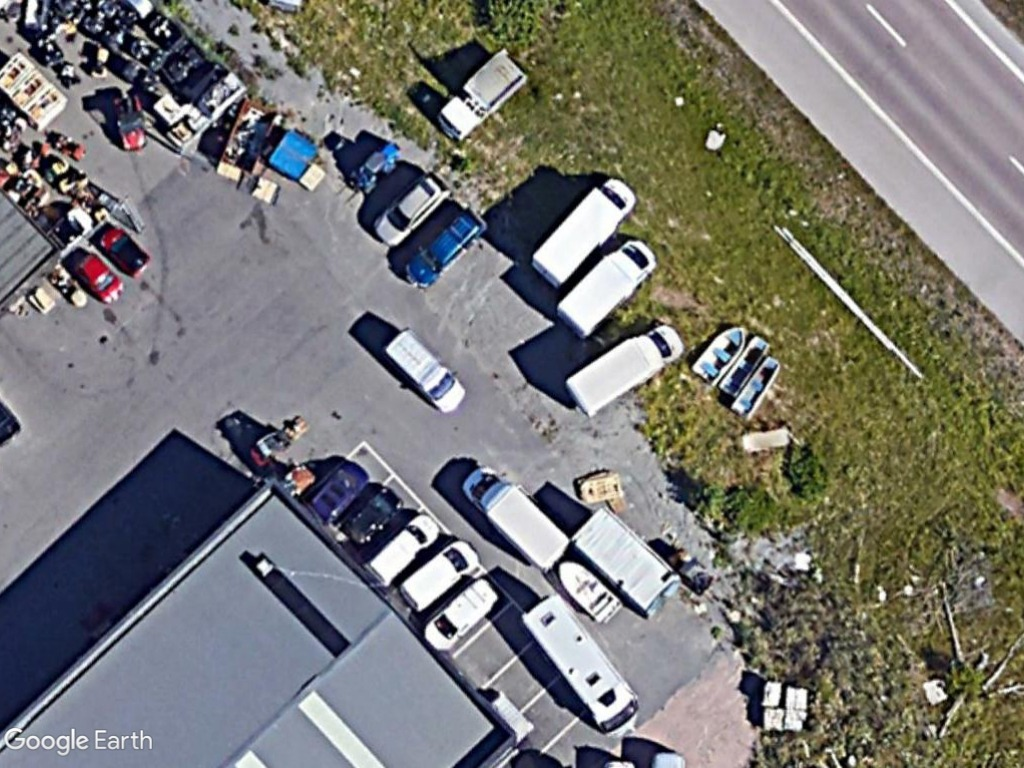boat: (555, 559, 623, 626), (689, 324, 750, 389)
bus: (521, 588, 639, 741)
car: (401, 204, 493, 295), (372, 168, 451, 251), (339, 484, 406, 549), (98, 224, 154, 281), (73, 250, 127, 308)
other: (434, 50, 528, 147)
truck: (459, 462, 575, 579)
van: (526, 172, 638, 292), (558, 319, 688, 421), (555, 234, 659, 343), (377, 326, 469, 417), (393, 536, 483, 615), (360, 509, 444, 586), (419, 580, 505, 654)
